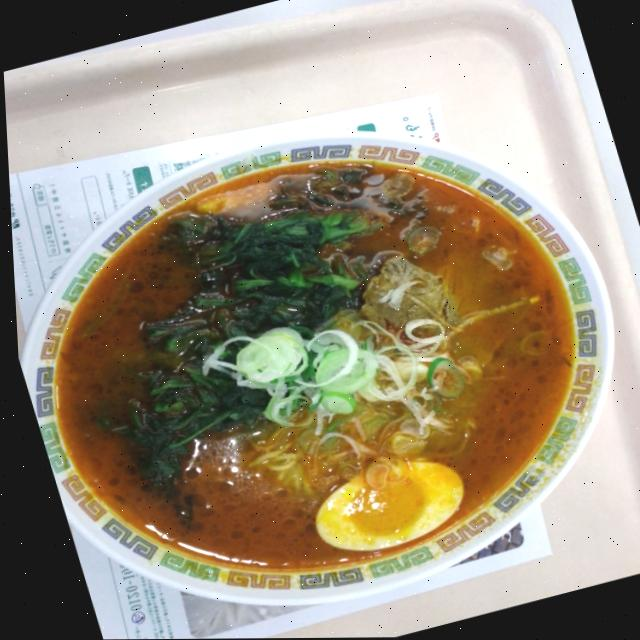面条主食: (3, 74, 640, 640)
